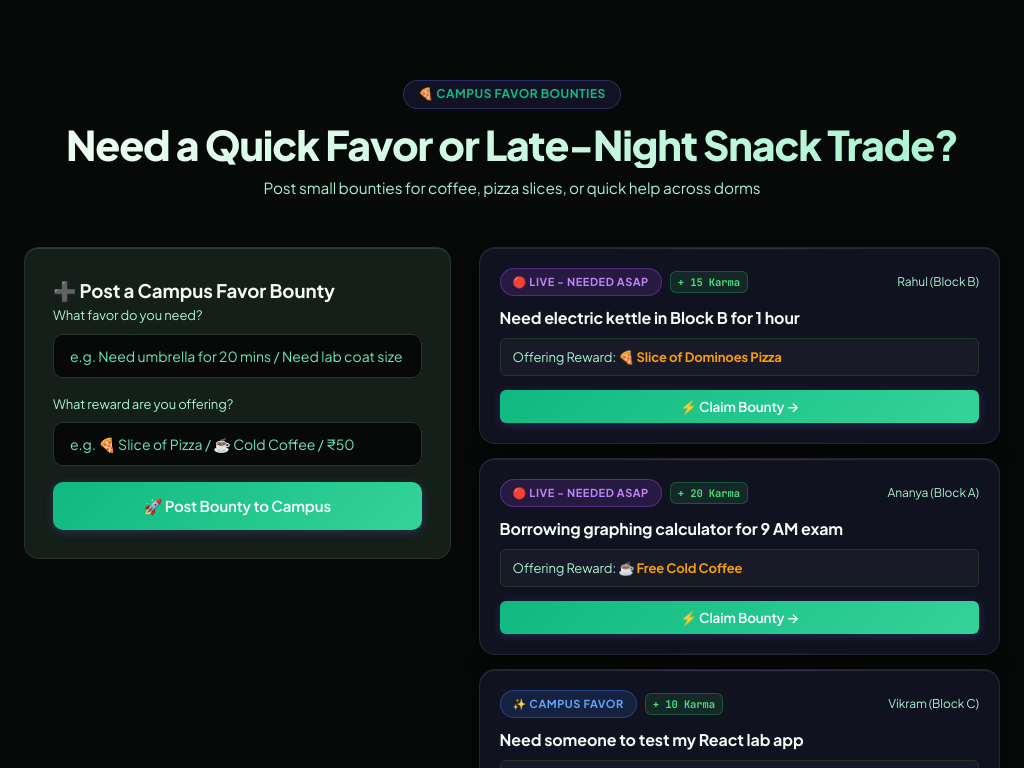
Test: BountyBoard Component Suite › allows user to claim a bounty and shows claim confirmation message
The width and height of the screenshot is (1024, 768).
Click the button "⚡ Claim Bounty →" below "🍕 Slice of Dominoes Pizza": (739, 407) [500,390,979,424]
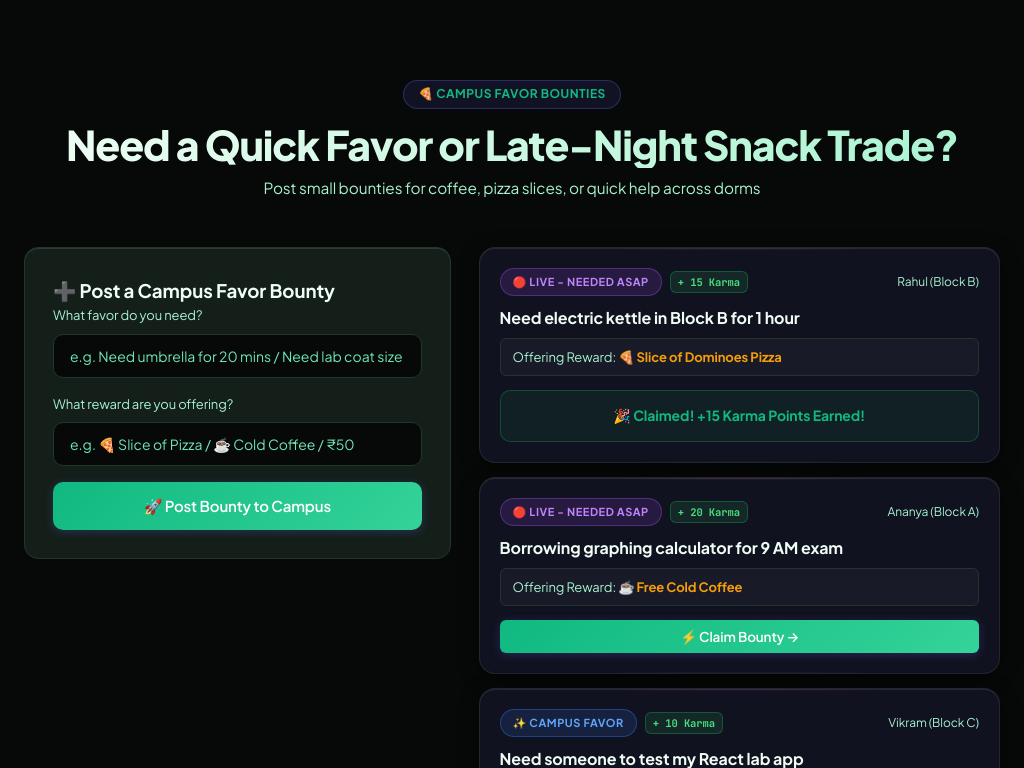
expect the text "🎉 Claimed! +15 Karma Points Earned!" is shown: met, box [500,390,979,442]
